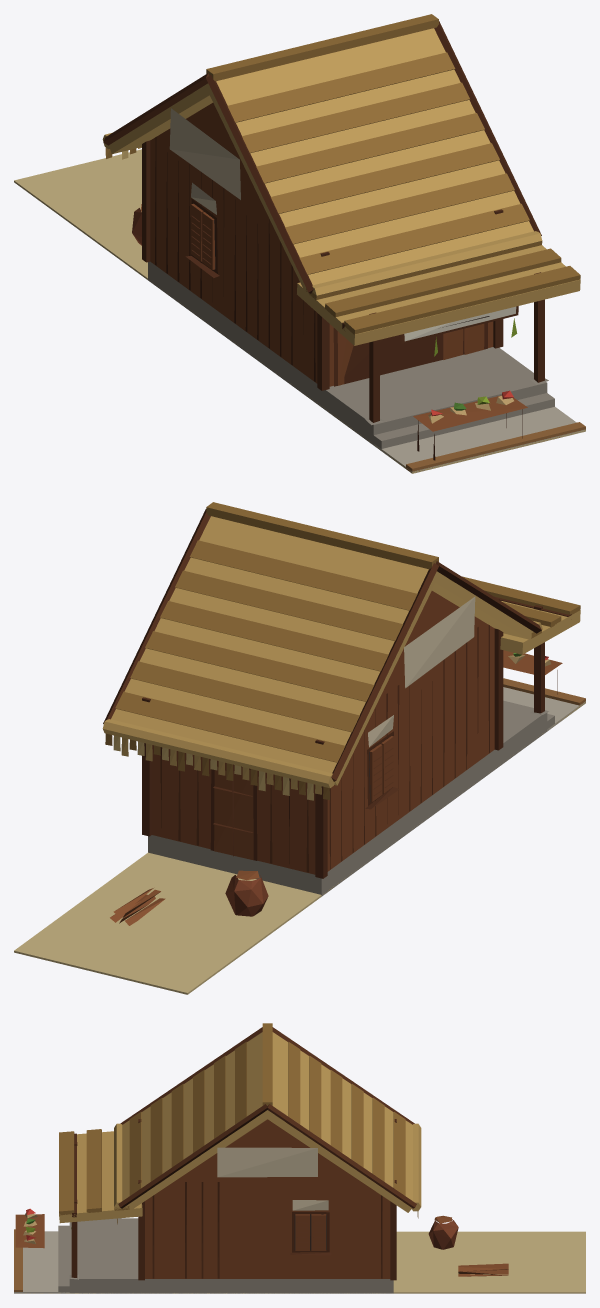
The model's file is bay1_one.glb.
3 views of the same model, one above another, from view 1: azimuth 30°, elevation 25°; view 2: azimuth 150°, elevation 25°; view 3: azimuth 270°, elevation 25° (orthographic). The views are drawn at different scales.
Visible parts, largest first — view 1: body; view 2: body; view 3: body.
Boxes of the visible parts, x1,y1,x2,y2 form: body: (14,14,585,473); body: (14,502,585,994); body: (14,1023,585,1293).
Bounding box in the file's own units: 5.43 × 6.15 × 15.9.
